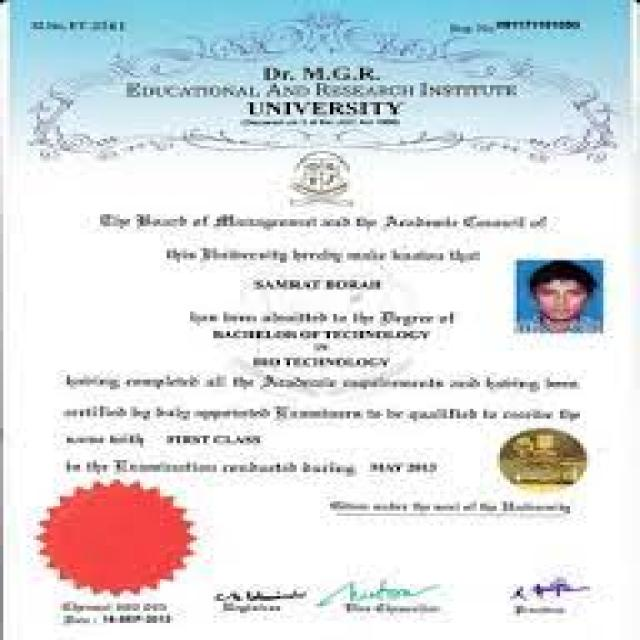degree: (202, 326, 441, 347)
signature: (322, 581, 467, 625), (208, 584, 311, 618), (506, 584, 585, 615)
stamp: (265, 146, 385, 215)
